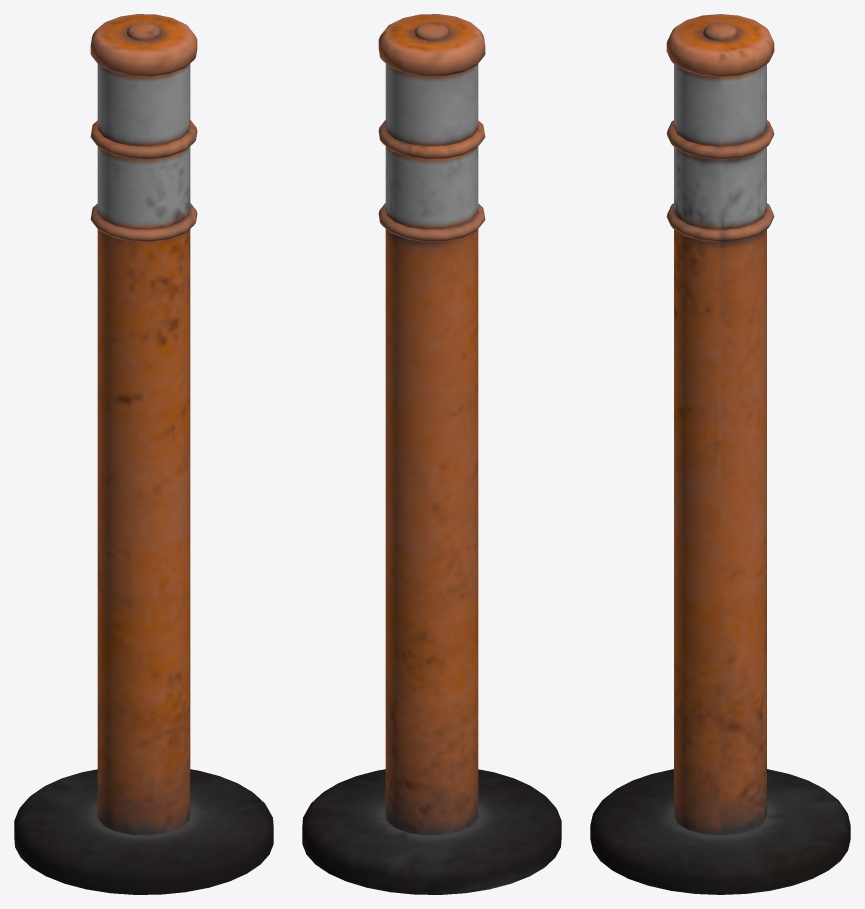
Rendered from Traffic Cone and Construction Cone 9 set kit 4K.fbx.
The picture shows the model from 3 angles, left to right: view 1: azimuth 30°, elevation 25°; view 2: azimuth 150°, elevation 25°; view 3: azimuth 270°, elevation 25°; orthographic projection.
Parts seen in each view (by area): view 1: Cone Tall 1_Large Cones_0; view 2: Cone Tall 1_Large Cones_0; view 3: Cone Tall 1_Large Cones_0.
Part boxes in pixels (left/top/right/bottom): Cone Tall 1_Large Cones_0: left=14, top=14, right=273, bottom=894; Cone Tall 1_Large Cones_0: left=302, top=14, right=561, bottom=894; Cone Tall 1_Large Cones_0: left=590, top=14, right=850, bottom=894.
Bounding box in the file's own units: 27.22 × 93.77 × 27.22.
1 material, 1 textured.
